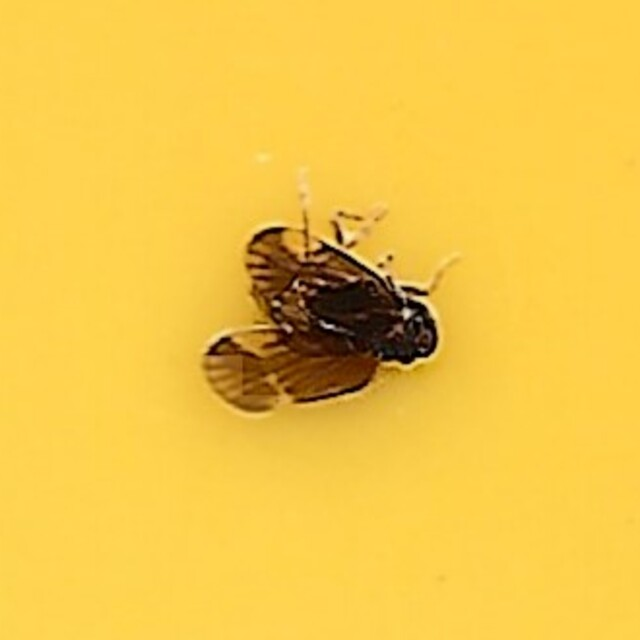Hemiptera: (194, 221, 446, 419)
